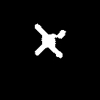single_crochet: (35, 24, 65, 57)
